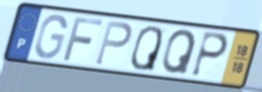F: (61, 15, 105, 63)
G: (33, 12, 69, 61)
P: (189, 30, 231, 79), (93, 19, 134, 68)
Q: (160, 28, 199, 76), (129, 24, 164, 73)
